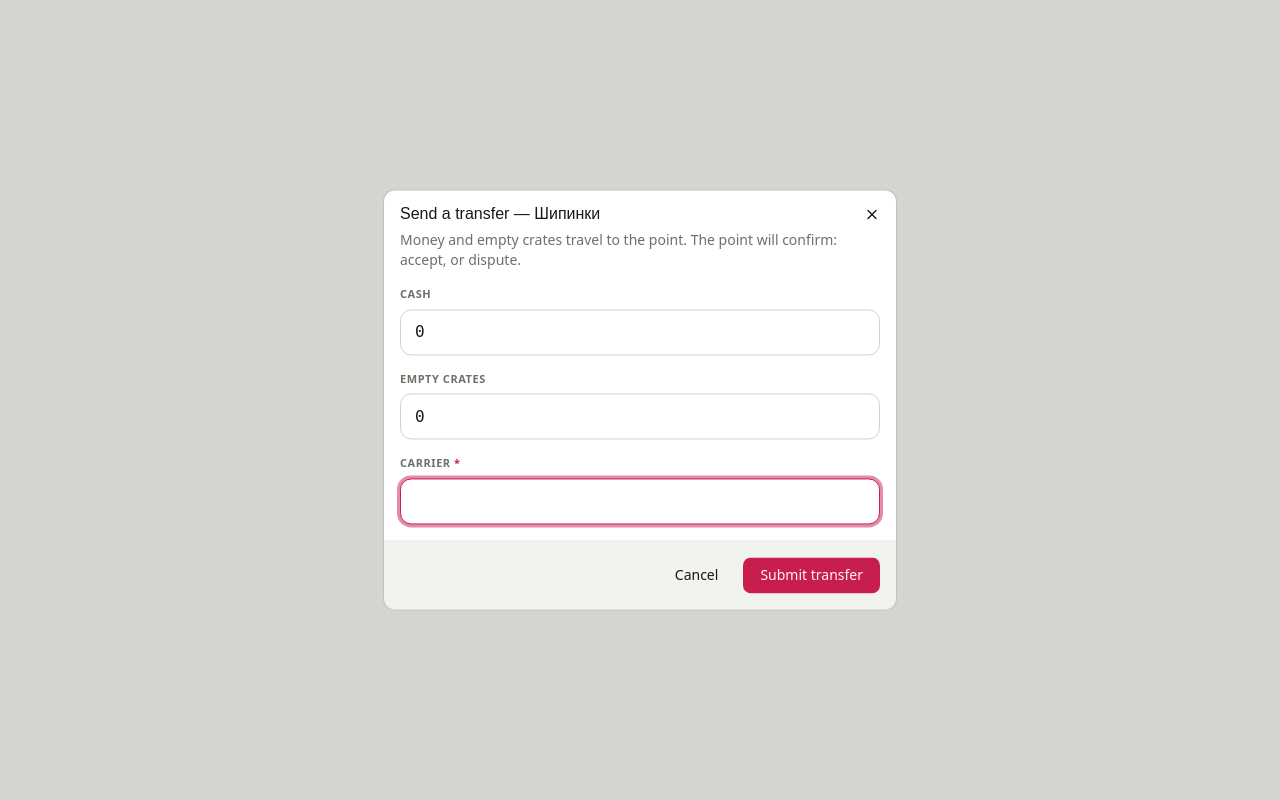
SendTransferDialog › refuses a transfer that is neither money nor crates
Type "Петро" into the field labelled "Carrier".
click(640, 502); type("Петро")  # box [400,479,880,525]
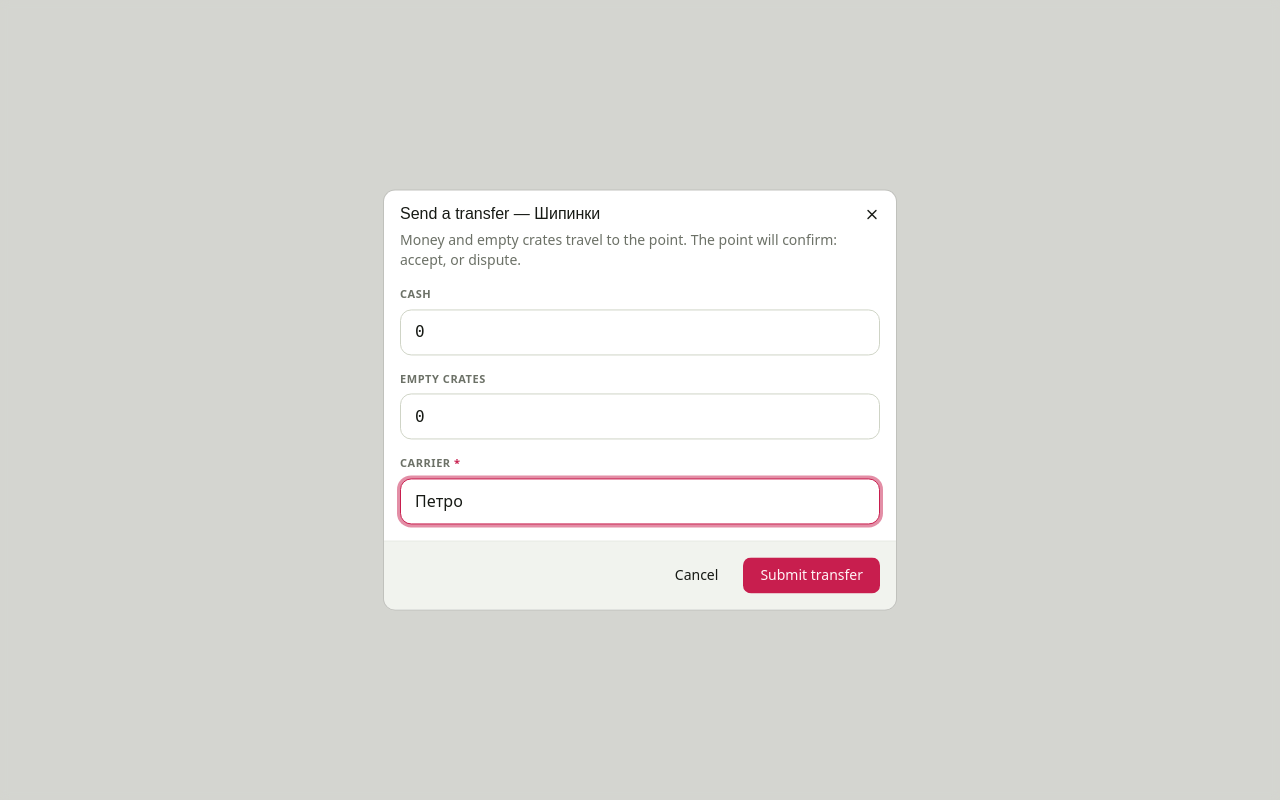
Click the button "Submit transfer".
click(812, 576)  # box [743,558,880,594]
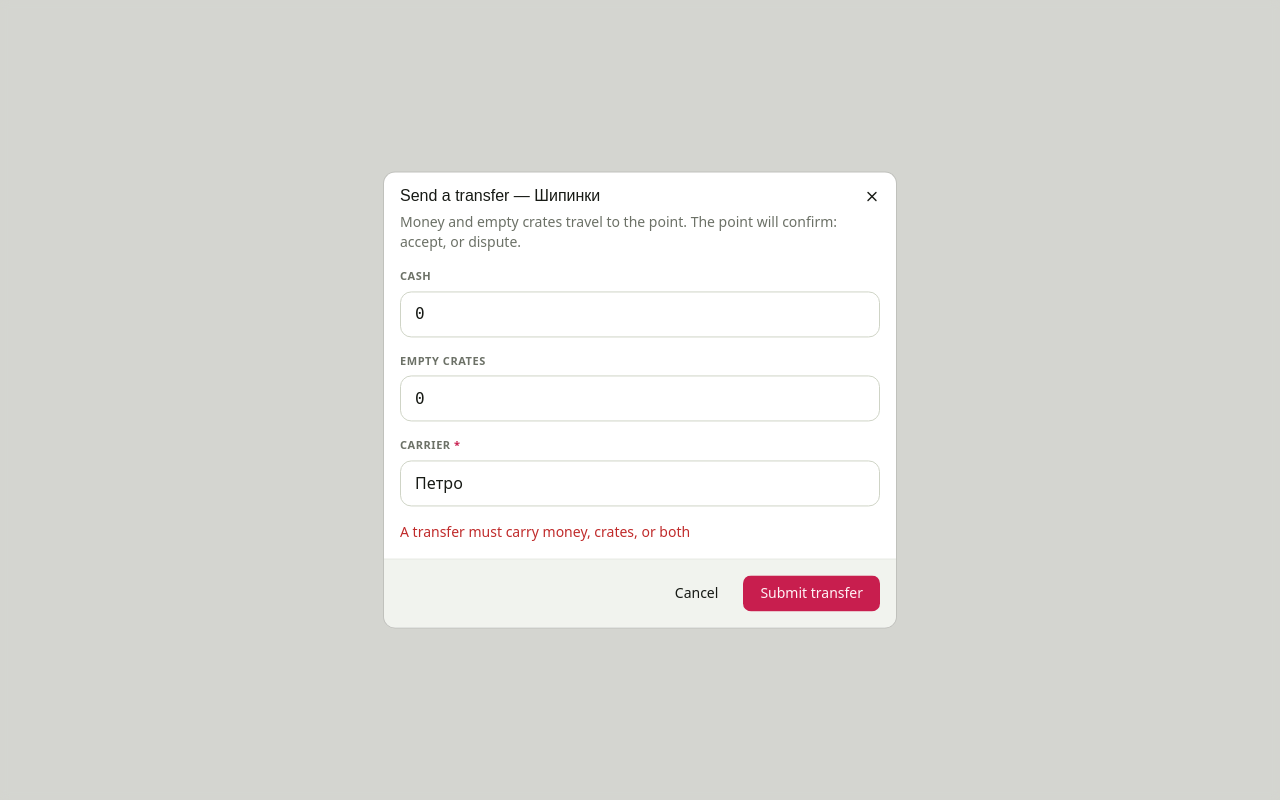
expect the message "A transfer must carry money, crates, or both" is shown: met, box [400,523,690,542]
